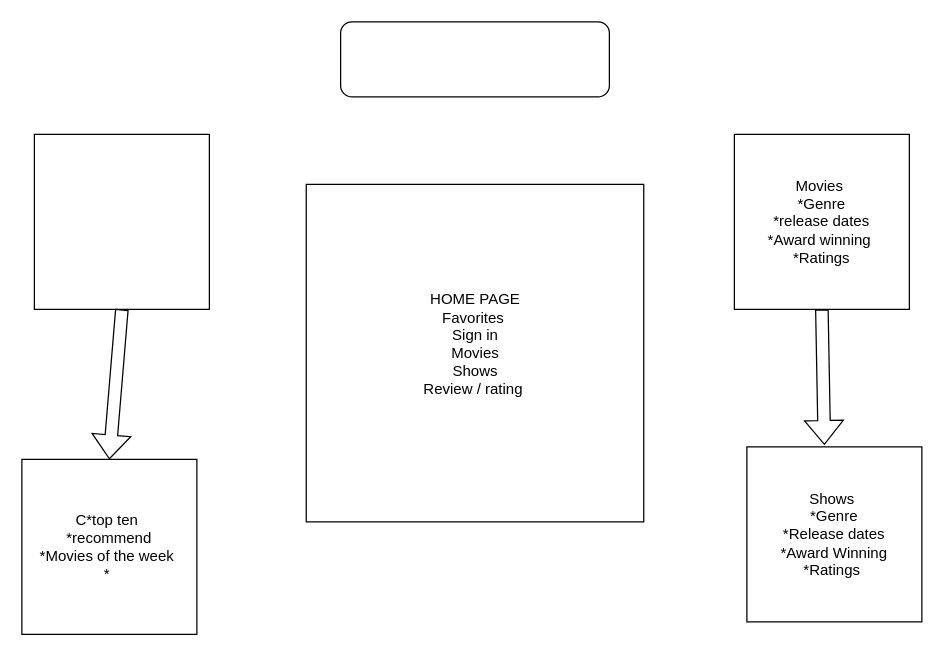
Image size: 944x656. Some labels were removed from this diagram. The centre of each missing label's shape, as x and y in pixels:
"RateFlix" goes at pixel 474 59.
"User *usernames *emails *age *gender *watchlist" goes at pixel 121 221.
